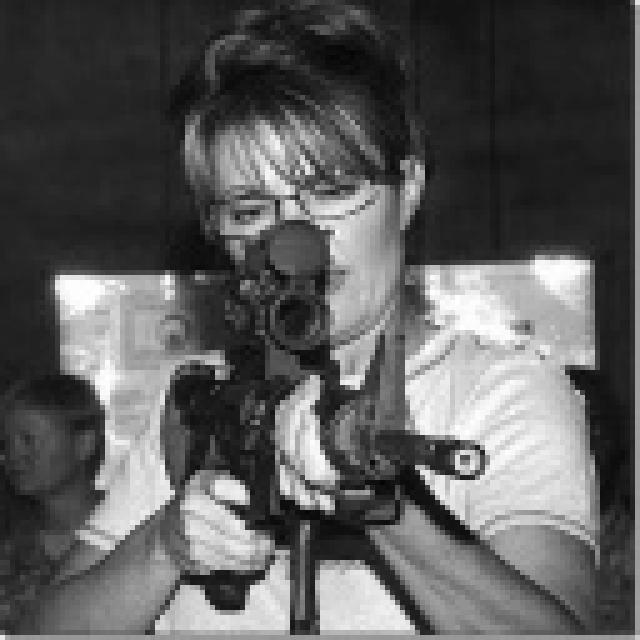Rifle: (135, 217, 526, 640)
